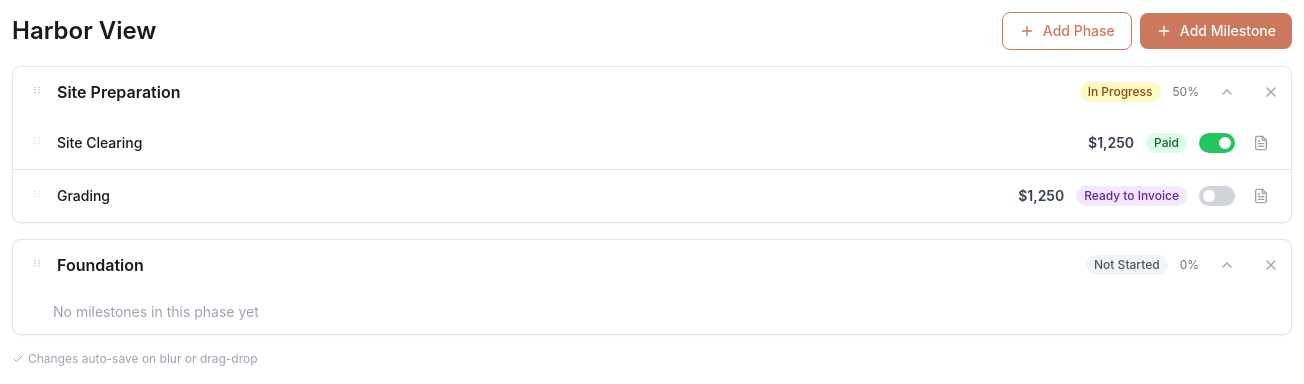
Scenario: ScheduleBuilderPage › starts inline editing on phase name double-click
Double-click the text "Site Preparation".
double_click(119, 92)  # box [57,82,180,102]
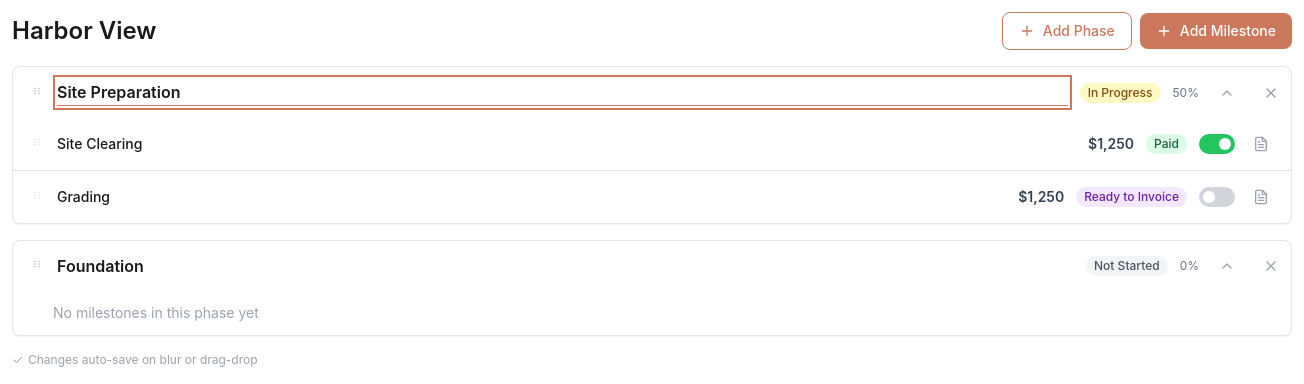
Expected: the field named "Edit phase name" holds "Site Preparation", [57,79,1068,106]
Now the field named "Edit phase name" is shown, box [57,79,1068,106]
